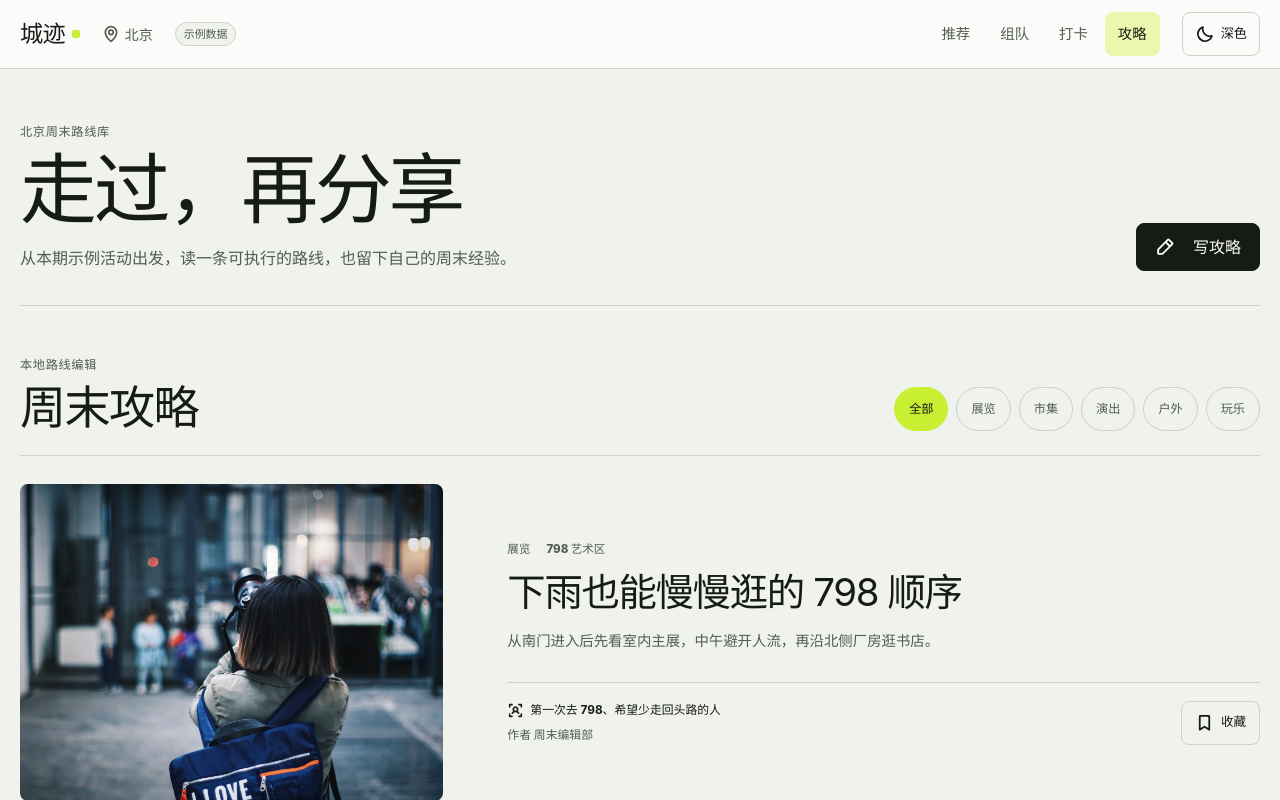
Test: publishes a guide first, retains values, and restores focus on completion
Click the button "写攻略".
click(1198, 247)  # box 1136,223 -> 1260,271
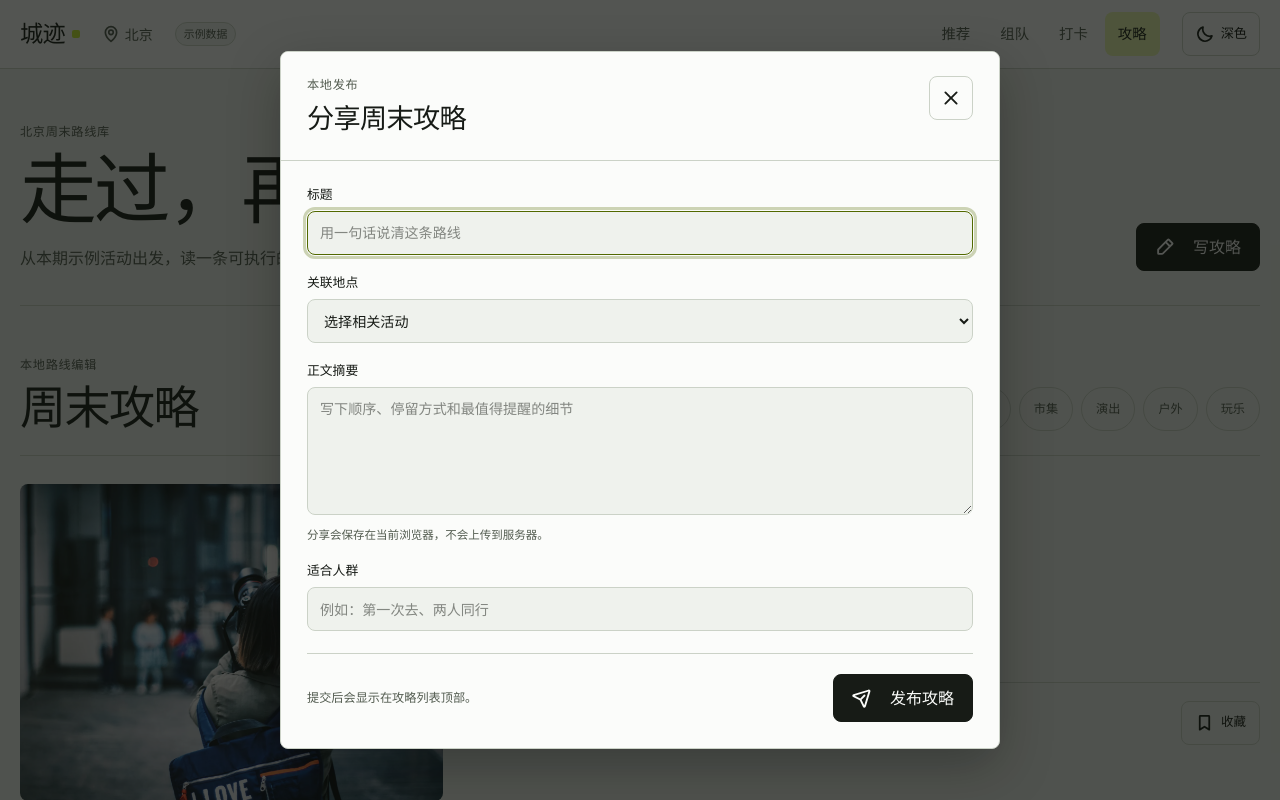
Type "雨天也能走的东城路线" into the field labelled "标题".
click(640, 233); type("雨天也能走的东城路线")  # box 307,211 -> 973,255
Select "798 当代艺术周末" in the dropdown labelled "关联地点" at (640, 321), box 307,299 -> 973,343
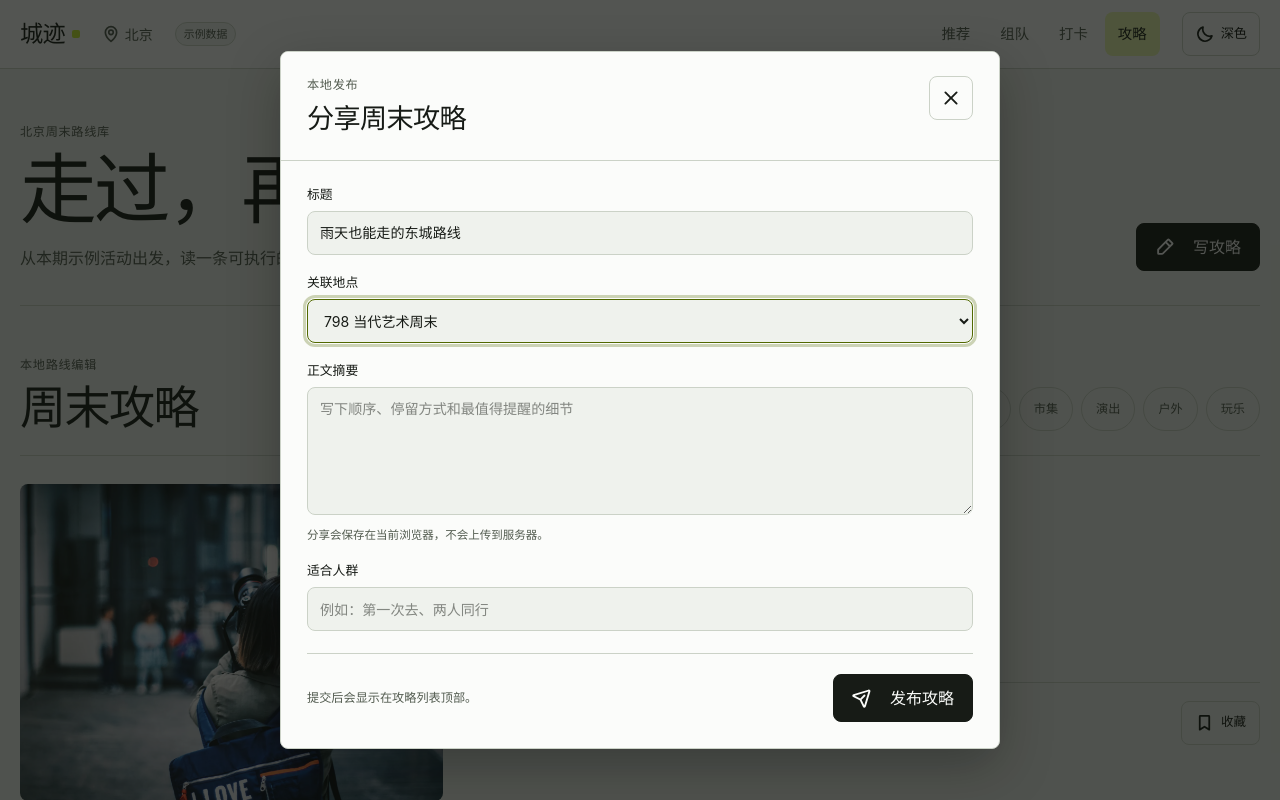
Type "从室内展览开始，沿途安排咖啡和书店。" into the text box labelled "正文摘要".
click(640, 451); type("从室内展览开始，沿途安排咖啡和书店。")  # box 307,387 -> 973,515
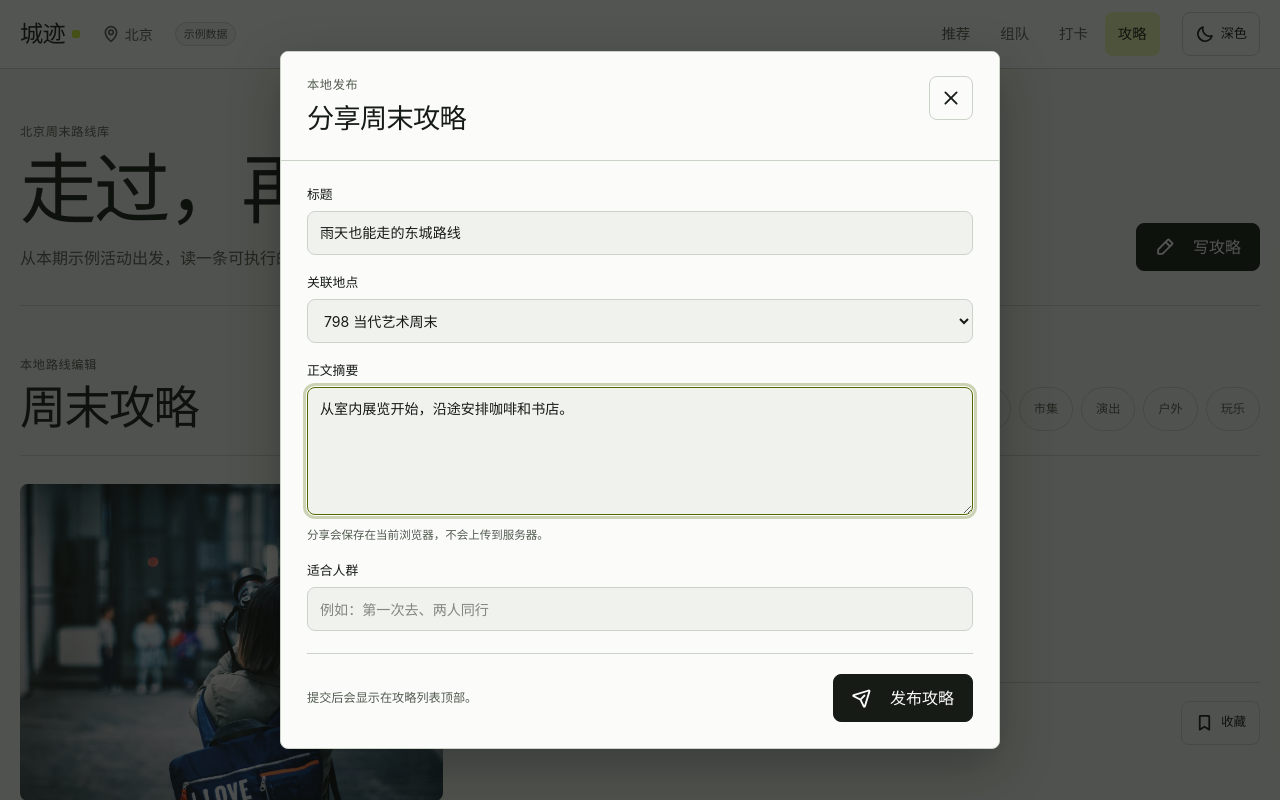
Type "两人同行，喜欢慢慢逛" into the field labelled "适合人群".
click(640, 609); type("两人同行，喜欢慢慢逛")  # box 307,587 -> 973,631
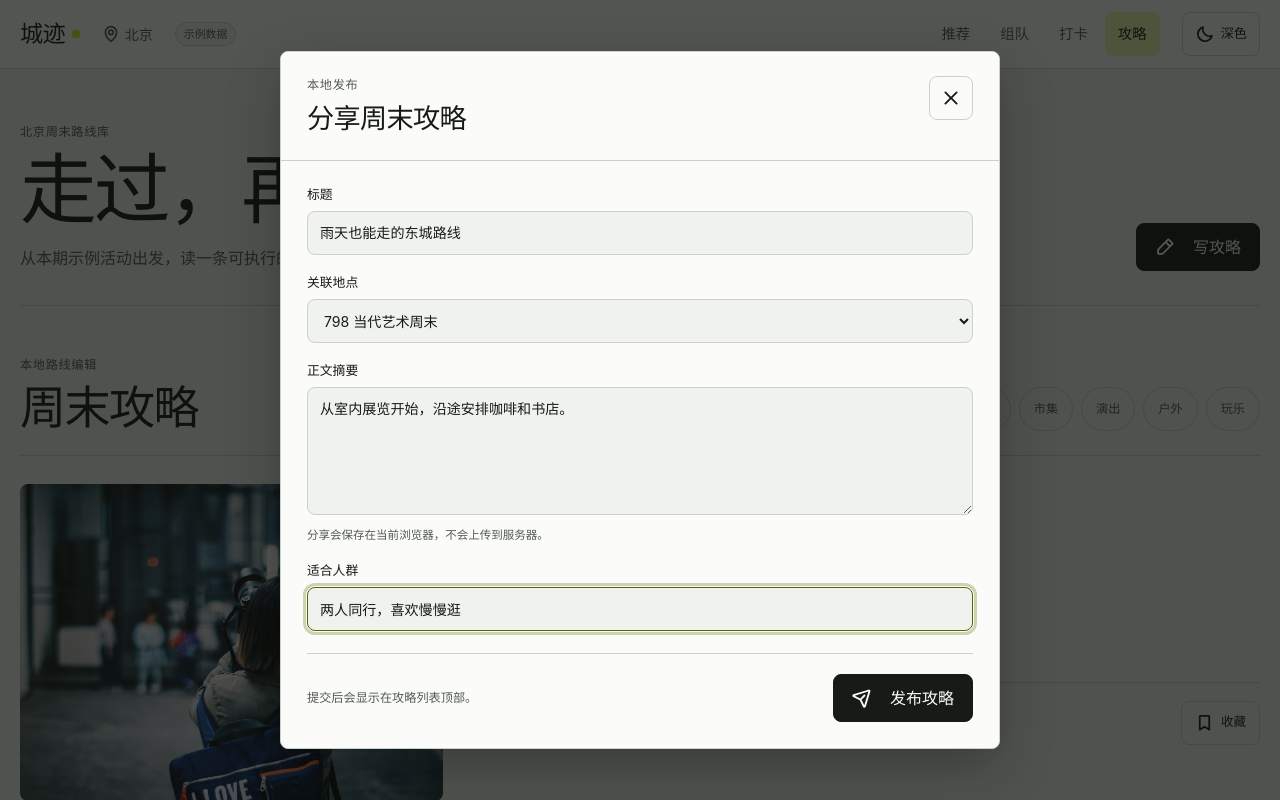
Click the button "发布攻略".
click(903, 698)  # box 833,674 -> 973,722
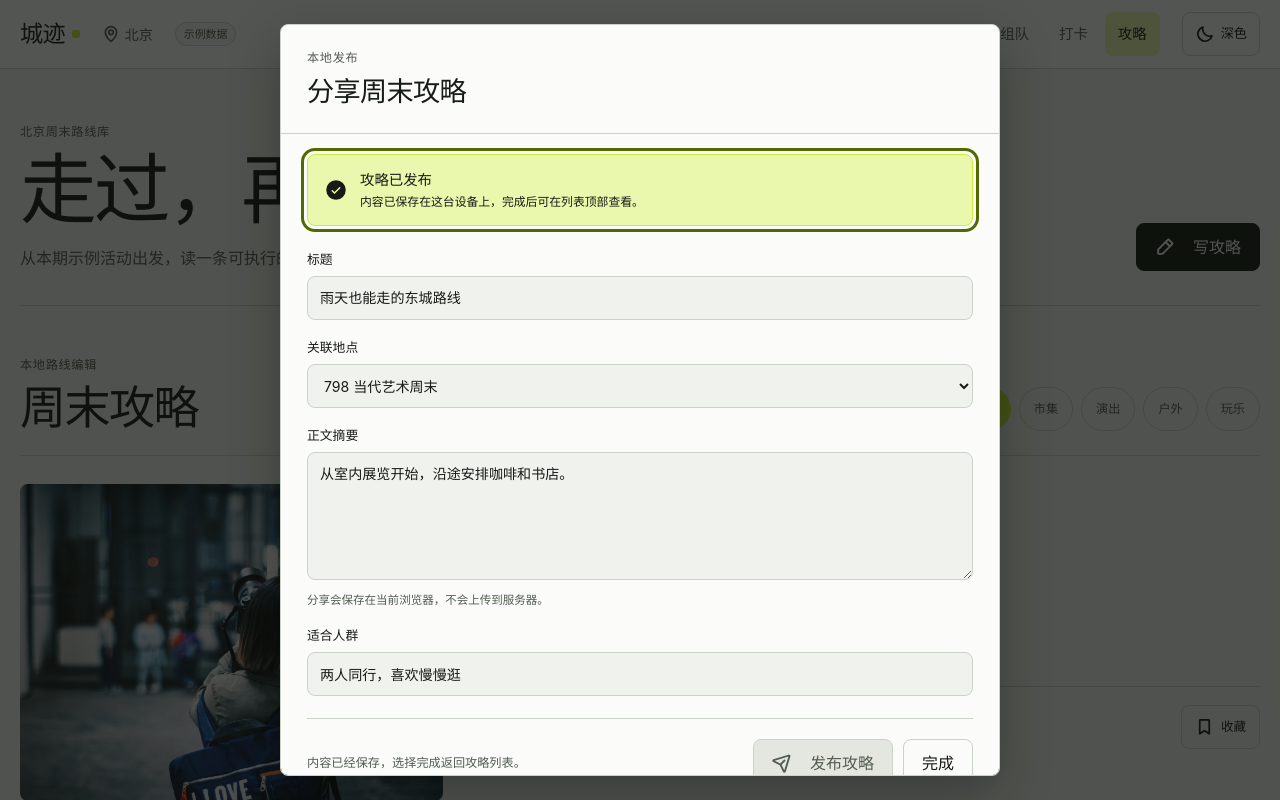
Result: the dialog "分享周末攻略" is shown at 280,24 -> 1000,776
Result: the message "攻略已发布" is shown at 307,154 -> 973,226
Press Escape
Result: the dialog "分享周末攻略" is shown at 280,24 -> 1000,776
Click the button "完成".
click(938, 763)  # box 903,739 -> 973,787
(page scrolled)
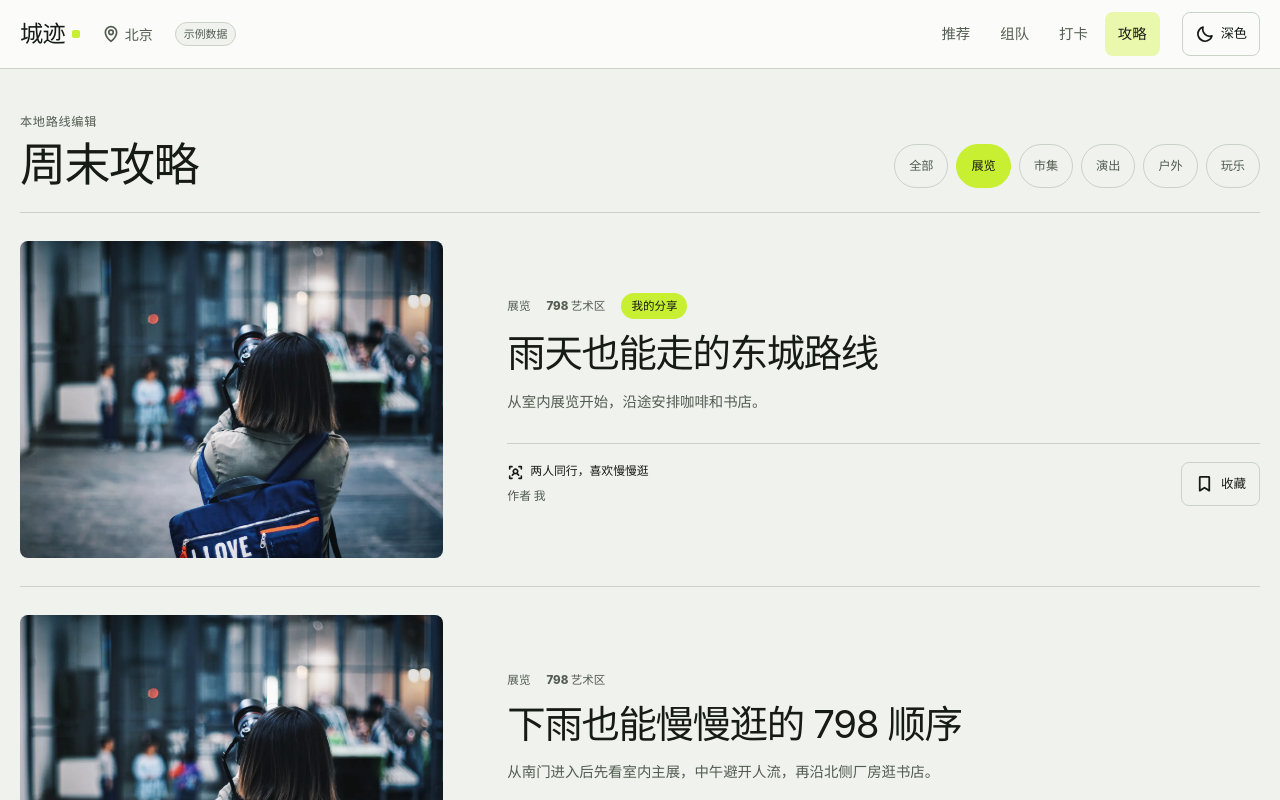
Result: the element named "雨天也能走的东城路线" shows "雨天也能走的东城路线" at 507,330 -> 878,376
Result: the element named "雨天也能走的东城路线" shows "我的分享" at 631,299 -> 678,313
Result: the dialog is gone
